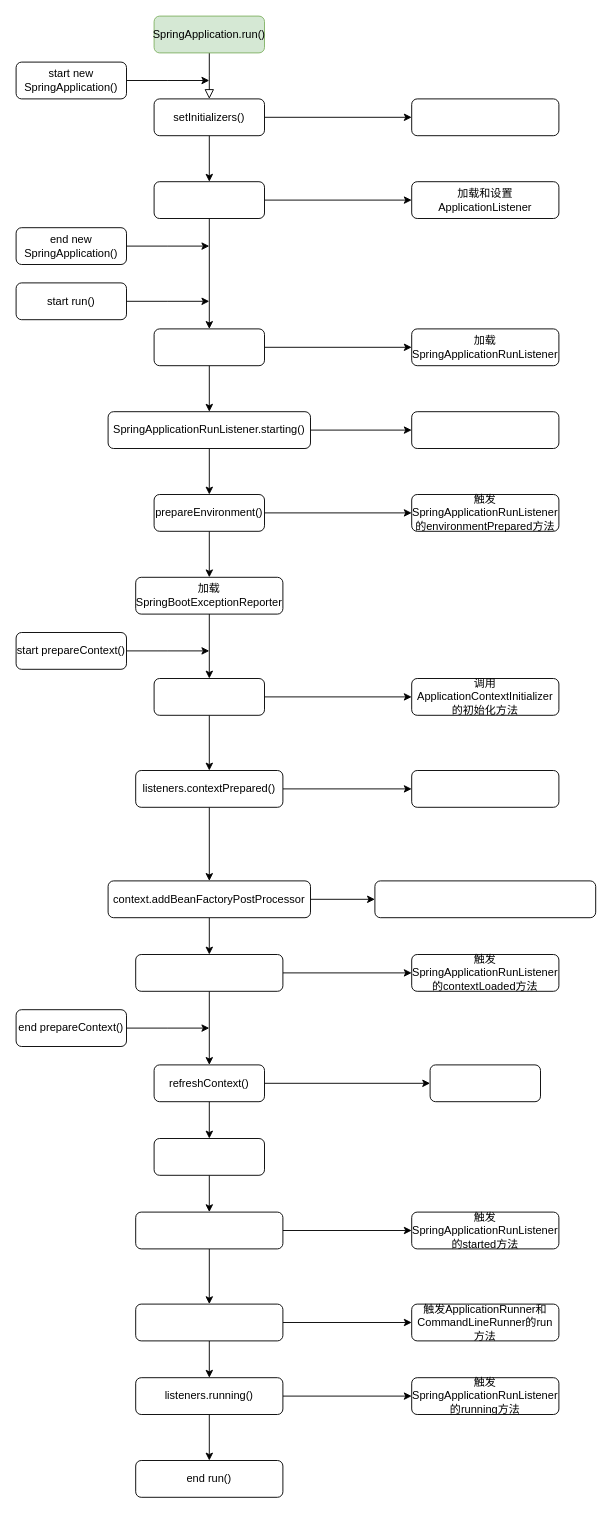
This 612x1513 diagram has some shape labels left out. The shapes that lost their labels are listed below. From the top down, each one's box as (x1, y1, x2, y2) in pixels, then its label:
(411, 98, 559, 136): 加载和设置ApplicationContextInitializer
(153, 181, 264, 218): setListeners()
(153, 328, 264, 366): getRunListeners()
(411, 411, 559, 448): 触发SpringApplicationRunListener的starting方法
(153, 678, 264, 715): applyInitializers()
(411, 770, 559, 807): 触发SpringApplicationRunListener的contextPrepared方法
(374, 880, 596, 918): 添加一个BeanFactoryPostProcessor：LazyInitializationBeanFactoryPostProcessor
(135, 954, 283, 991): listeners.contextLoaded()
(429, 1064, 540, 1102): 启动Spring的refresh流程，这里是Spring自己的各个扩展点
(153, 1138, 264, 1175): afterRefresh()
(135, 1211, 283, 1249): listeners.started()
(135, 1303, 283, 1341): callRunners()
